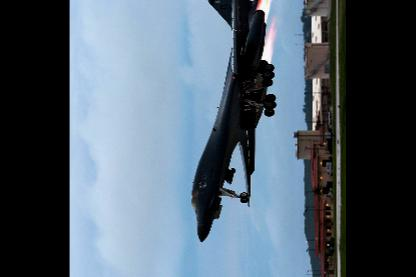AV8B: (190, 0, 277, 244)
